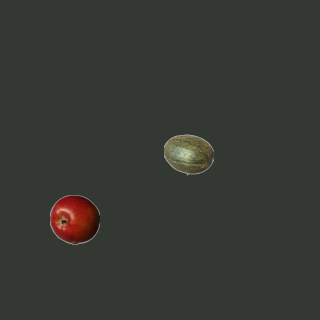Apple Braeburn: (49, 194, 99, 244)
Melon Piel de Sapo: (163, 129, 213, 179)
